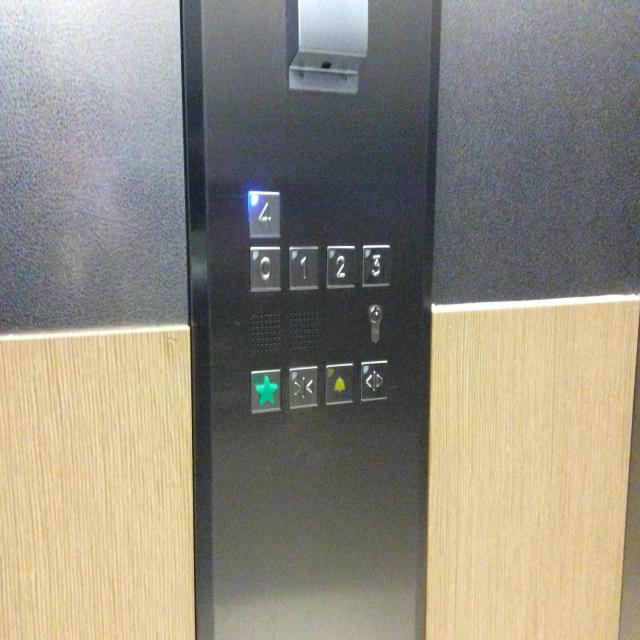0: (248, 243, 283, 293)
1: (286, 243, 320, 292)
2: (323, 240, 358, 290)
3: (360, 241, 392, 289)
4: (246, 188, 282, 240)
alarm: (324, 361, 356, 407)
close: (287, 364, 320, 411)
keyhole: (367, 303, 384, 325)
open: (359, 358, 390, 404)
s: (248, 366, 284, 416)
